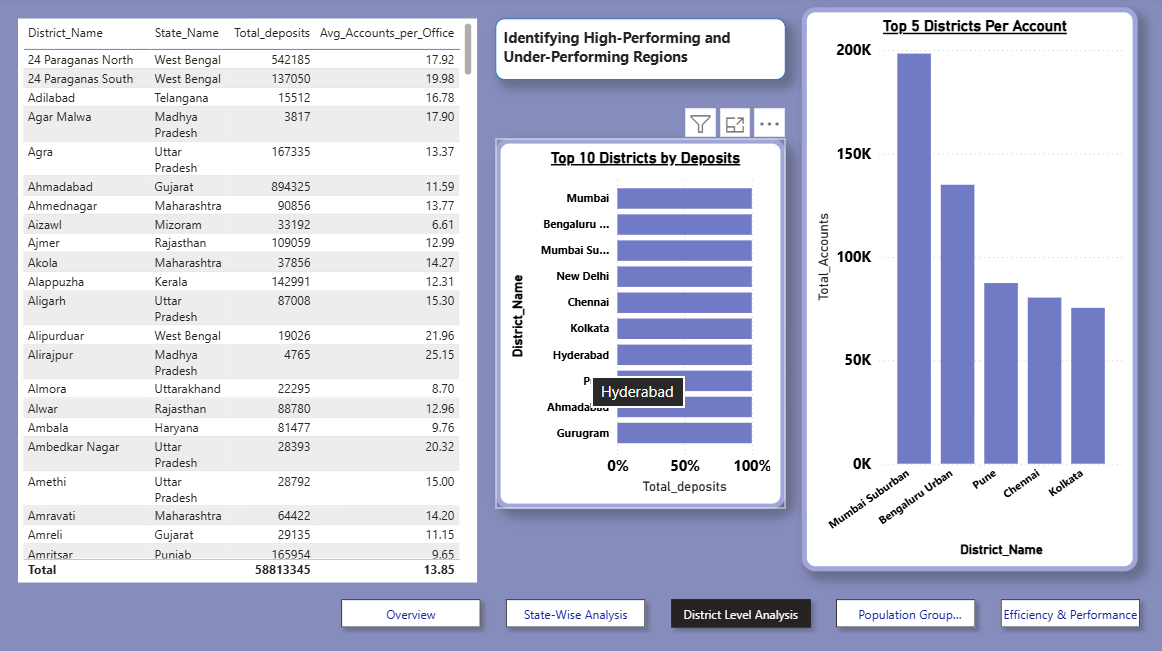

The dashboard page shown, as its layout file describes it:
{"tool":"powerbi","page":{"name":"District Level Analysis","canvas":[1280,720],"ordinal":2},"visuals":[{"type":"textbox","box":[546.1,24.7,318.4,67.2],"z":0},{"type":"hundredPercentStackedBarChart","title":"Top 10 Districts by Deposits","fields":{"Category":["Cleaned Data.District_Name"],"Y":["Cleaned Data.Total_deposits"]},"box":[546.1,156.4,318.4,406.2],"z":1000},{"type":"tableEx","fields":{"Values":["Cleaned Data.District_Name","Cleaned Data.State_Name","Cleaned Data.Total_deposits","Cleaned Data.Avg_Accounts_per_Office"]},"box":[22,24.7,503.6,618.9],"z":2000},{"type":"columnChart","title":"Top 5 Districts Per Account","fields":{"Category":["Cleaned Data.District_Name"],"Y":["Cleaned Data.Total_Accounts"]},"box":[882.3,12.3,369.1,618.9],"z":3000},{"type":"pageNavigator","box":[367.8,653.2,897.4,49.4],"z":3001}]}

Visuals, with their boxes in screenshot pixels (x1, y1, x2, y2), scaled from the page's 1280x720 canvas onto the 1162x651 screenshot:
textbox: 496, 22, 785, 83
"Top 10 Districts by Deposits" hundredPercentStackedBarChart: 496, 141, 785, 509
tableEx - Cleaned Data.District_Name x Cleaned Data.State_Name: 20, 22, 477, 582
"Top 5 Districts Per Account" columnChart: 801, 11, 1136, 571
pageNavigator: 334, 591, 1149, 635
